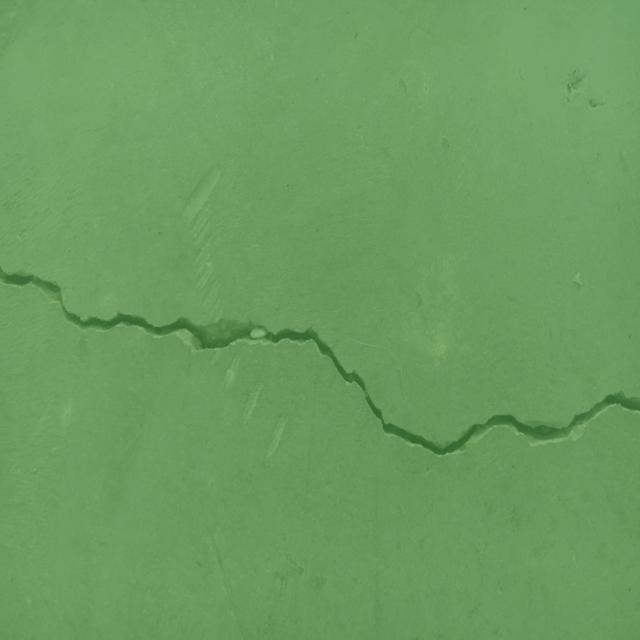crack: (0, 266, 640, 457)
